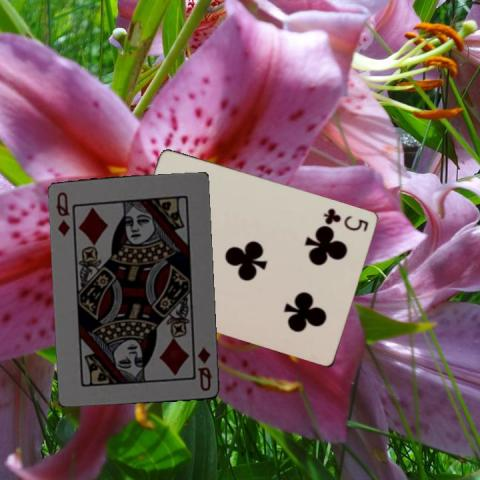5c: (321, 205, 370, 233)
Qd: (195, 343, 213, 393), (53, 190, 72, 237)
